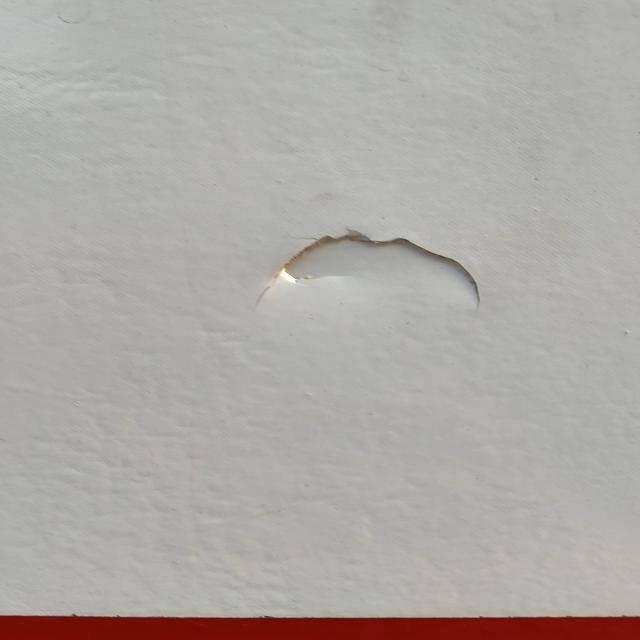Scratches: (230, 216, 536, 326)
